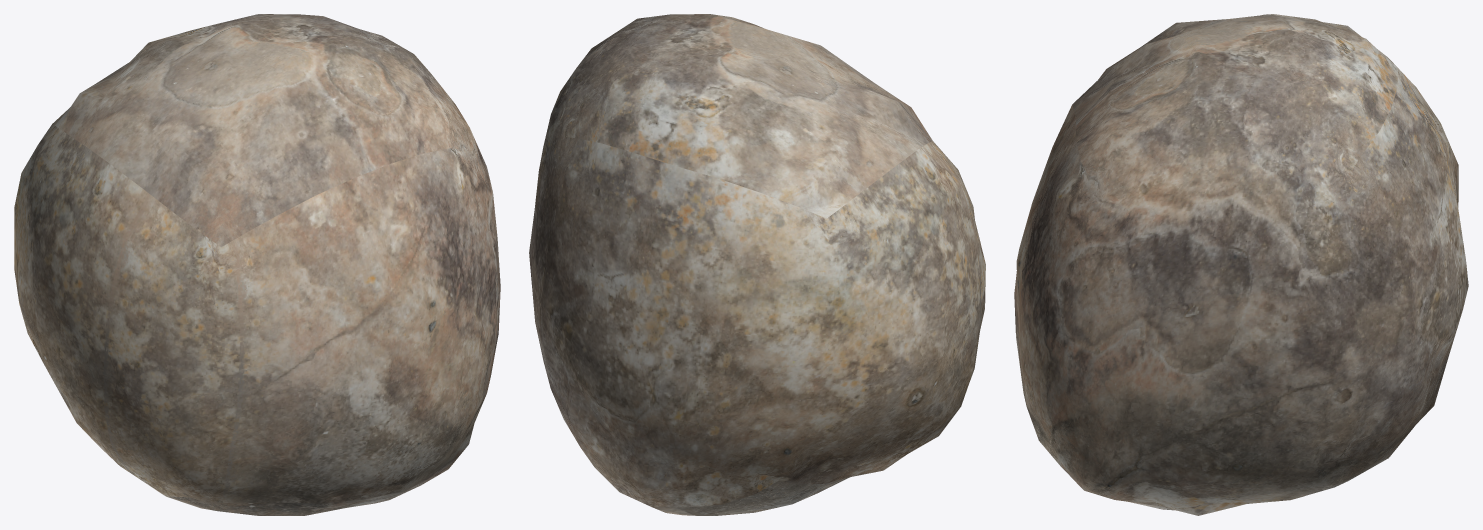
File: asteroid_single.glb
The picture shows the model from 3 angles, left to right: view 1: azimuth 30°, elevation 25°; view 2: azimuth 150°, elevation 25°; view 3: azimuth 270°, elevation 25°; orthographic projection. The views are drawn at different scales.
Visible parts, largest first — view 1: Cube; view 2: Cube; view 3: Cube.
Boxes of the visible parts, <box> form: Cube: <box>14,14,500,515</box>; Cube: <box>529,14,985,515</box>; Cube: <box>1014,14,1468,515</box>.
Size of the model in its own units: 2.8 by 3.05 by 2.76.
1 material, 1 textured.
